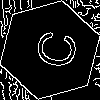C: (25, 25, 79, 72)
